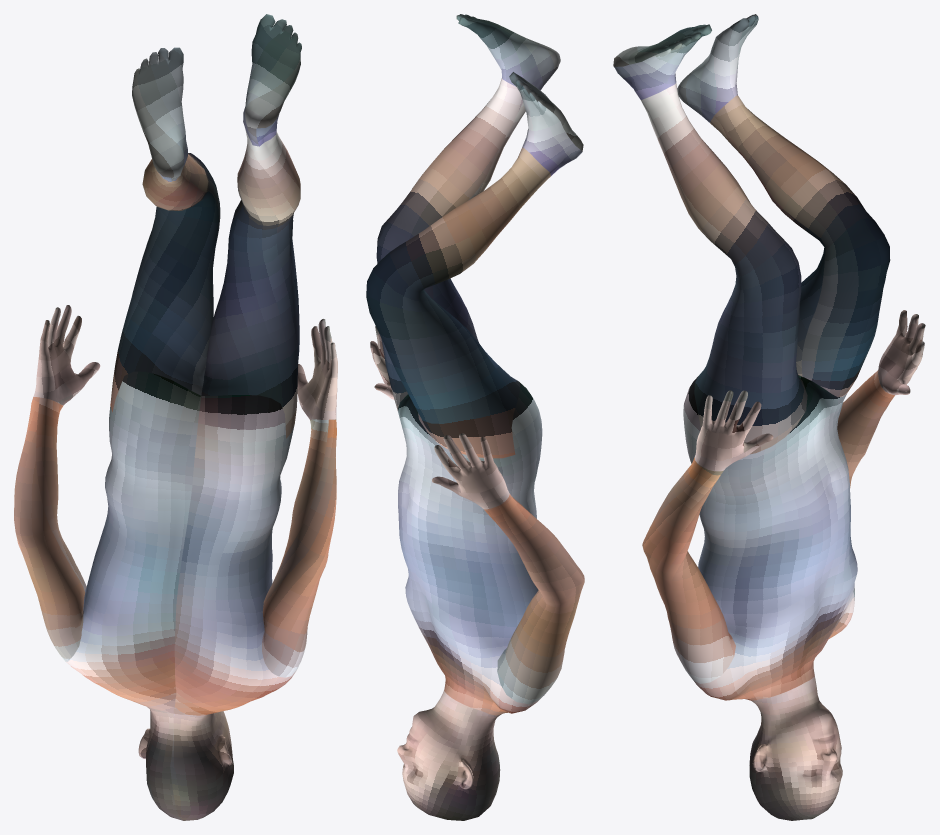
3 views of the same model, side by side, from view 1: azimuth 30°, elevation 25°; view 2: azimuth 150°, elevation 25°; view 3: azimuth 270°, elevation 25° (orthographic). The views are drawn at different scales.
Parts seen in each view (by area): view 1: m_avg_Untitled; view 2: m_avg_Untitled; view 3: m_avg_Untitled.
Part boxes in pixels (<box>): m_avg_Untitled: <box>14,14,337,820</box>; m_avg_Untitled: <box>366,14,584,820</box>; m_avg_Untitled: <box>613,14,925,820</box>.
Size of the model in its own units: 0.6132 by 1.81 by 0.6333.
